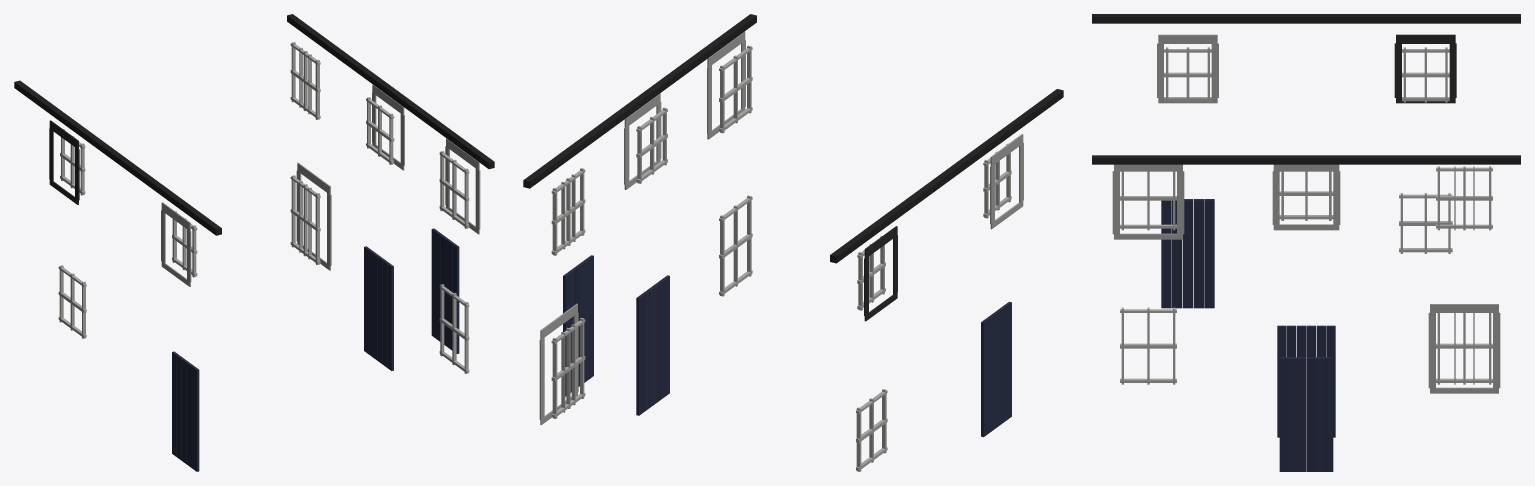
File: SM_Bld_037_Wood.glb
The picture shows the model from 3 angles, left to right: view 1: azimuth 30°, elevation 25°; view 2: azimuth 150°, elevation 25°; view 3: azimuth 270°, elevation 25°; orthographic projection. The views are drawn at different scales.
Visible parts, largest first — view 1: SM_Bld_037_Wood; view 2: SM_Bld_037_Wood; view 3: SM_Bld_037_Wood.
Boxes of the visible parts, box(x1,y1,x2,y2) form: SM_Bld_037_Wood: box(14, 14, 494, 471); SM_Bld_037_Wood: box(523, 14, 1063, 471); SM_Bld_037_Wood: box(1092, 14, 1520, 471).
Size of the model in its own units: 6.83 by 5.3 by 7.2.
